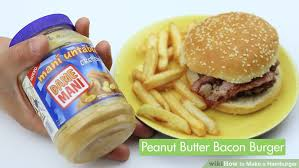hamburger: (182, 9, 286, 117)
